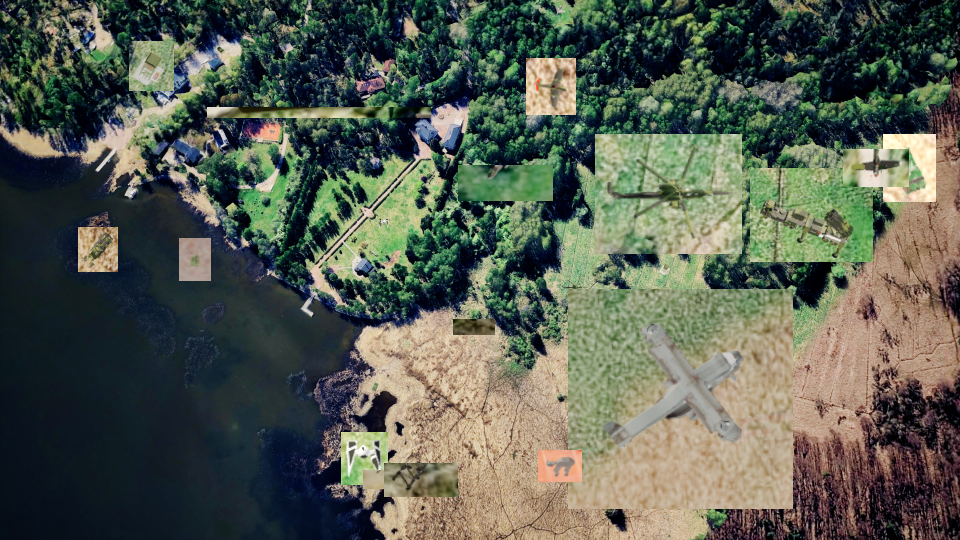condor: (568, 289, 793, 509)
hangar: (207, 107, 431, 118)
helicopter: (595, 134, 742, 254)
jammer: (883, 134, 936, 202)
jet_plane: (458, 165, 553, 201)
large_launcher: (750, 168, 873, 262)
large_tower: (384, 463, 458, 497)
medium_launcher: (453, 319, 495, 335)
medium_plane: (843, 149, 909, 187)
mine_roller: (78, 227, 118, 272)
small_launcher: (179, 238, 211, 281)
small_plane: (526, 58, 576, 115)
small_tower: (129, 41, 174, 91)
spacecraft: (341, 432, 388, 485)
ta-ta: (538, 450, 582, 482)
tank: (363, 470, 426, 489)
